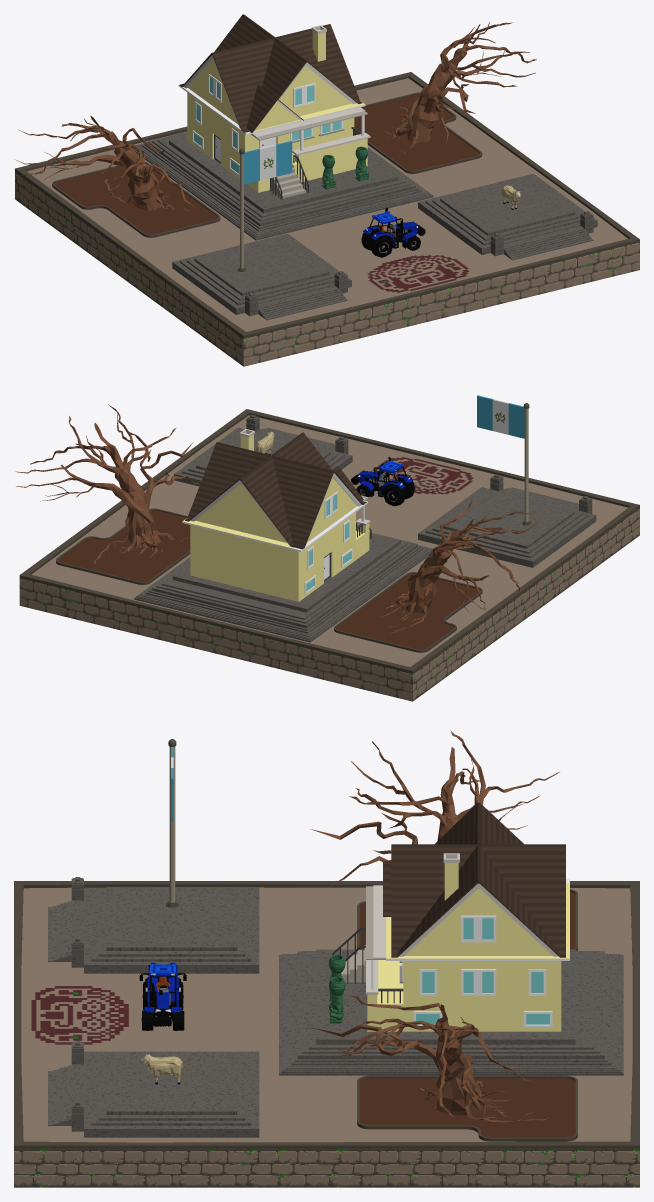
3 views of the same model, one above another, from view 1: azimuth 30°, elevation 25°; view 2: azimuth 150°, elevation 25°; view 3: azimuth 270°, elevation 25° (orthographic). The views are drawn at different scales.
Parts seen in each view (by area): view 1: Cube.011, Cube.1555, OBJRANDOM_GUATEMALAN_FLAG, VEHICLES_TRACTOR; view 2: Cube.011, Cube.1555, OBJRANDOM_GUATEMALAN_FLAG, VEHICLES_TRACTOR; view 3: Cube.011, Cube.1555, VEHICLES_TRACTOR, OBJRANDOM_GUATEMALAN_FLAG, ANIMAL_OVEJA.
Boxes of the visible parts, bbox=[...] form: Cube.011: bbox=[14, 22, 639, 366]; Cube.1555: bbox=[178, 14, 370, 199]; OBJRANDOM_GUATEMALAN_FLAG: bbox=[237, 141, 292, 271]; VEHICLES_TRACTOR: bbox=[361, 207, 425, 257]; Cube.011: bbox=[15, 404, 639, 701]; Cube.1555: bbox=[182, 429, 371, 601]; OBJRANDOM_GUATEMALAN_FLAG: bbox=[477, 395, 531, 525]; VEHICLES_TRACTOR: bbox=[351, 456, 414, 506]; Cube.011: bbox=[14, 730, 639, 1187]; Cube.1555: bbox=[332, 802, 569, 1031]; VEHICLES_TRACTOR: bbox=[139, 962, 186, 1030]; OBJRANDOM_GUATEMALAN_FLAG: bbox=[166, 739, 178, 907]; ANIMAL_OVEJA: bbox=[140, 1054, 182, 1084].
Size of the model in its own units: 5099 by 1759 by 4000.
Materials: 38 (5 with a texture image).
